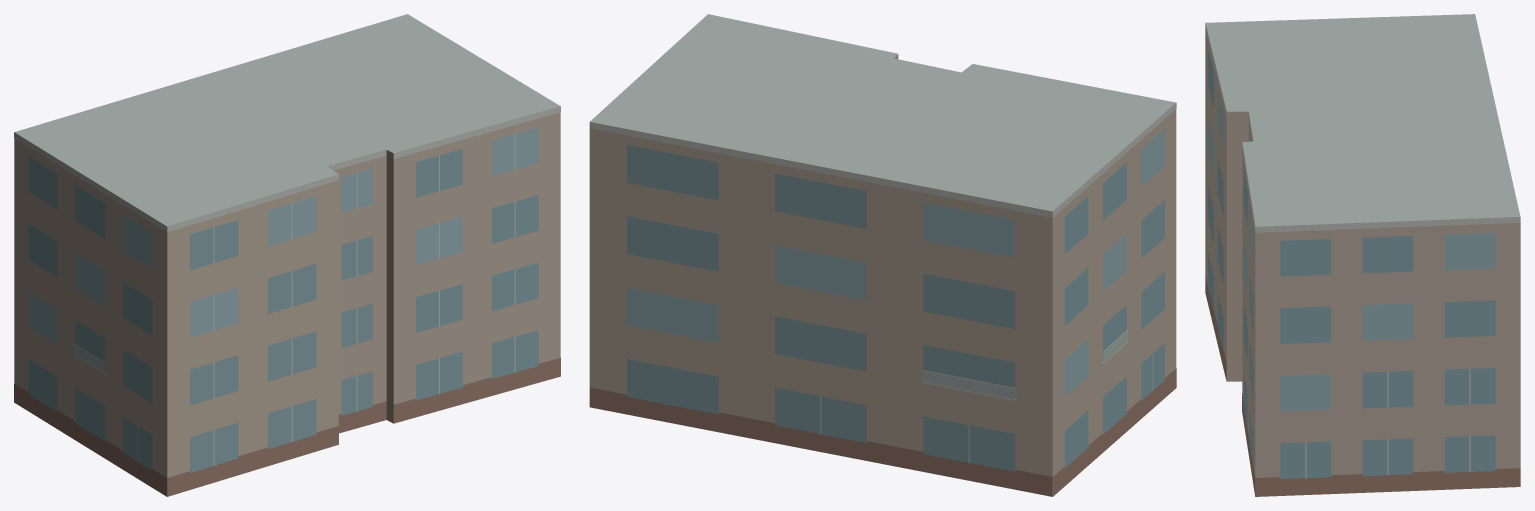
The model's file is survey-upis-32757133.glb.
3 views of the same model, side by side, from view 1: azimuth 30°, elevation 25°; view 2: azimuth 150°, elevation 25°; view 3: azimuth 270°, elevation 25° (orthographic). The views are drawn at different scales.
Visible parts, largest first — view 1: survey-upis-32757133.tmp; view 2: survey-upis-32757133.tmp; view 3: survey-upis-32757133.tmp.
Boxes of the visible parts, x1,y1,x2,y2 form: survey-upis-32757133.tmp: [14, 14, 560, 496]; survey-upis-32757133.tmp: [589, 14, 1176, 496]; survey-upis-32757133.tmp: [1205, 14, 1520, 496].
Bounding box in the file's own units: 18.6 × 11 × 11.64.
